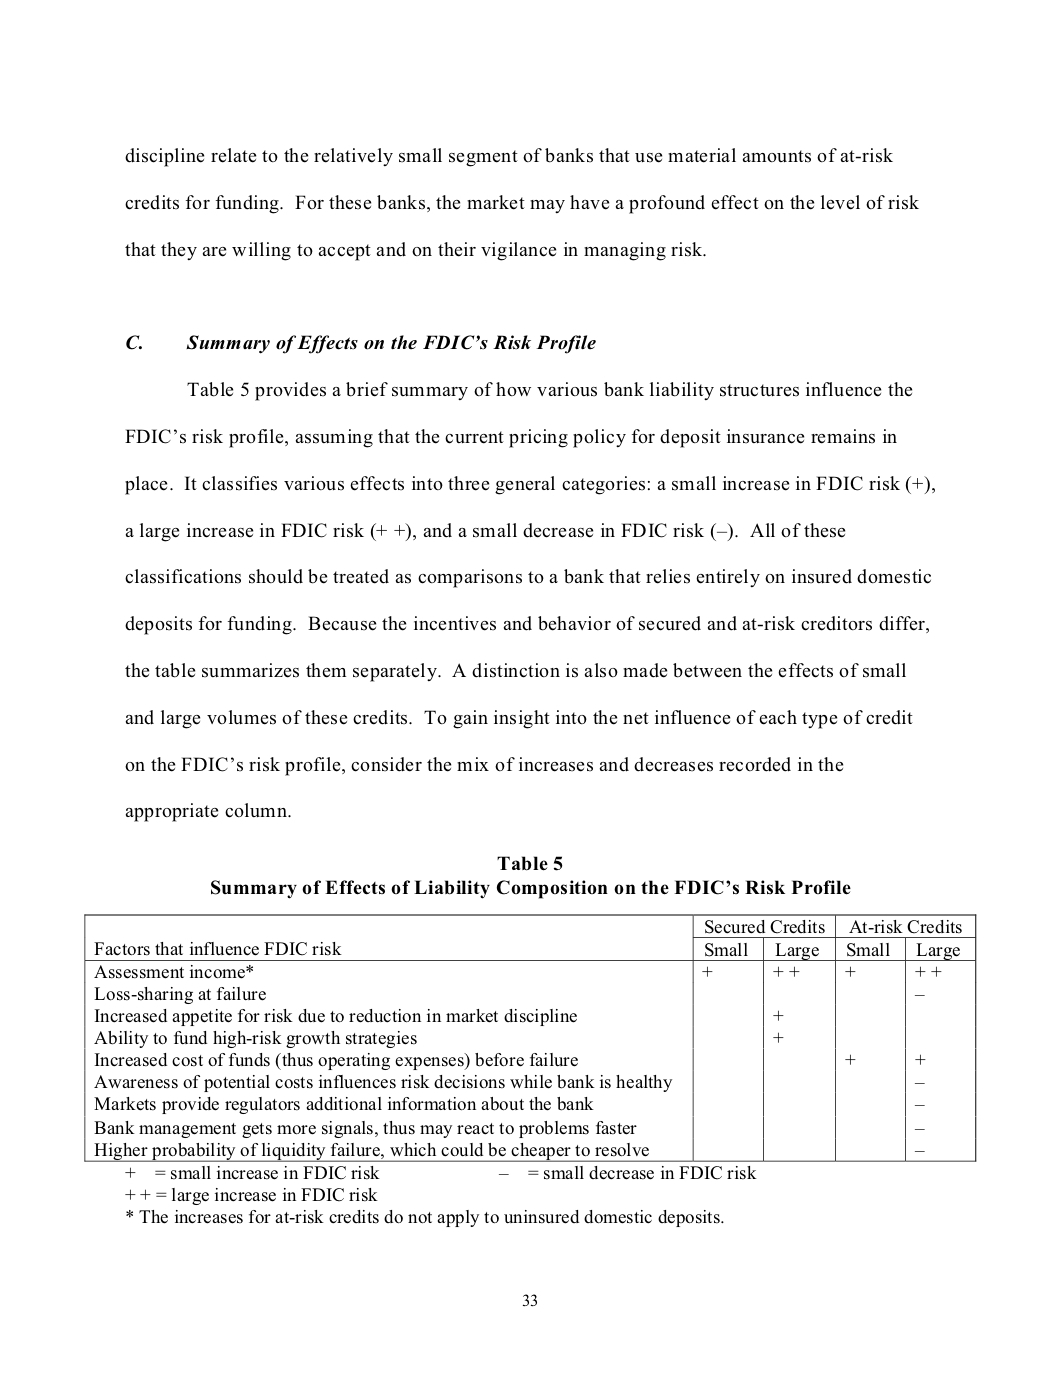Table: (84, 912, 976, 1162)
